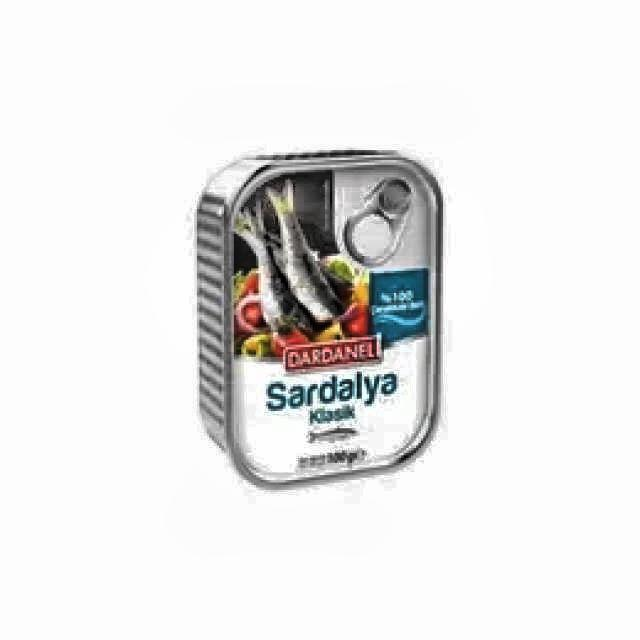metal: (197, 152, 443, 488)
